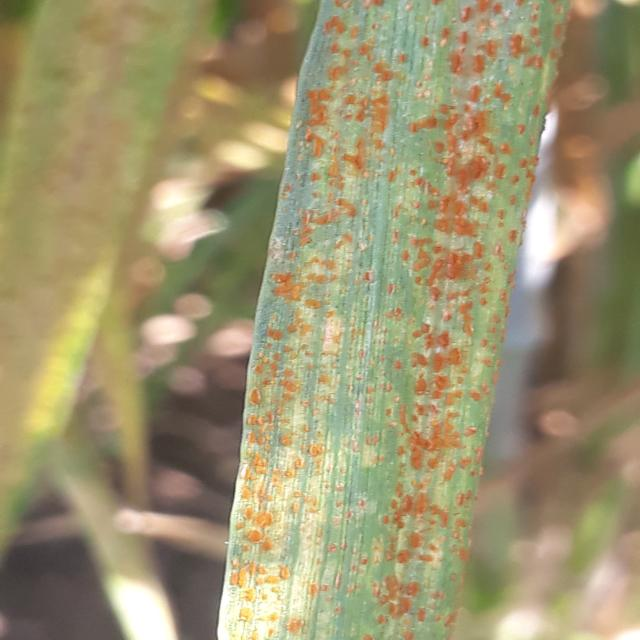orang_rust: (214, 0, 566, 640)
